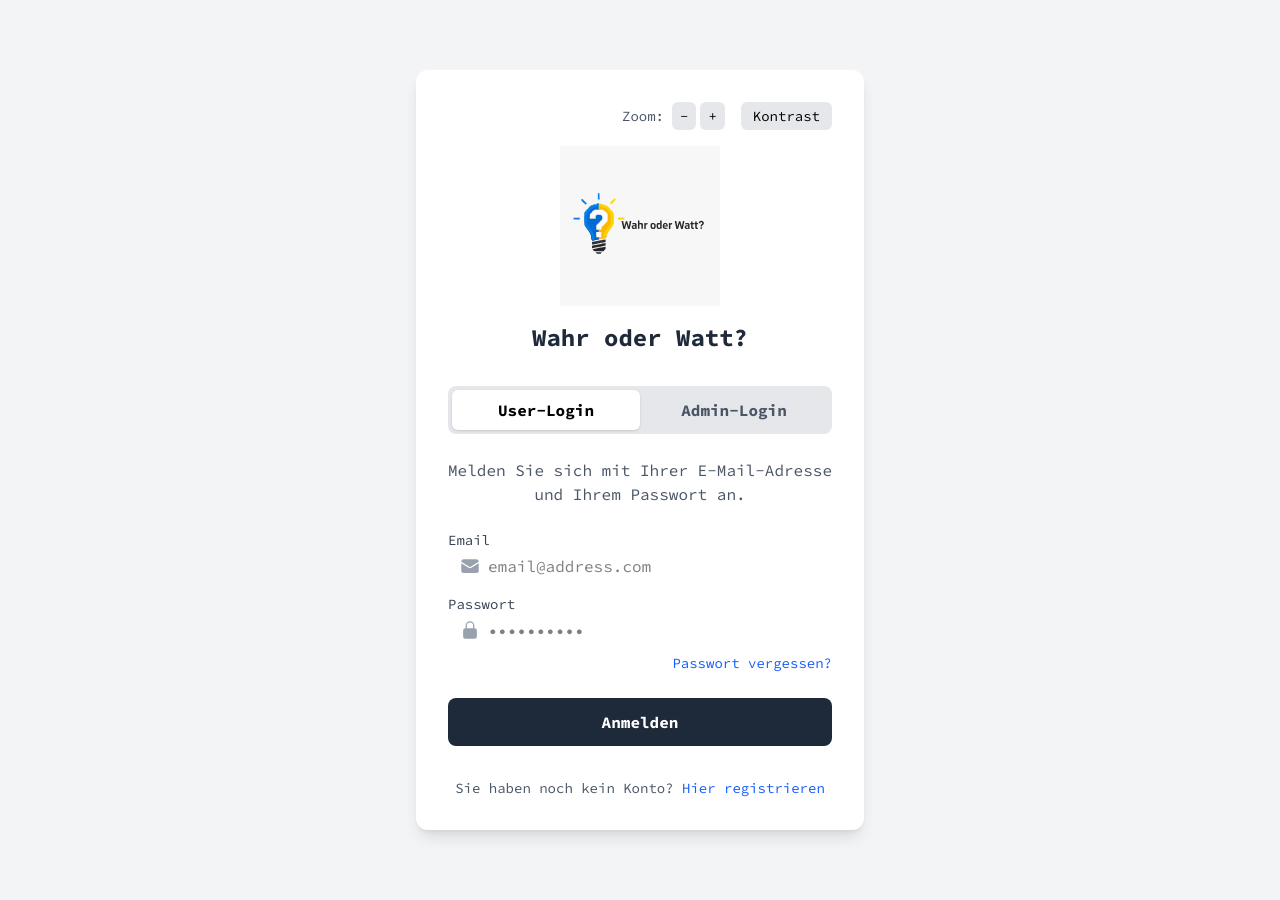
LoginView.vue › Accessibility Features › toggles high contrast mode
The width and height of the screenshot is (1280, 900).
Findet und klickt den Kontrast-Button.
What coordinates should you click on to do the following:
click the button "Kontrast"
I would click on:
 (786, 116)
Its box is [741, 102, 832, 130].
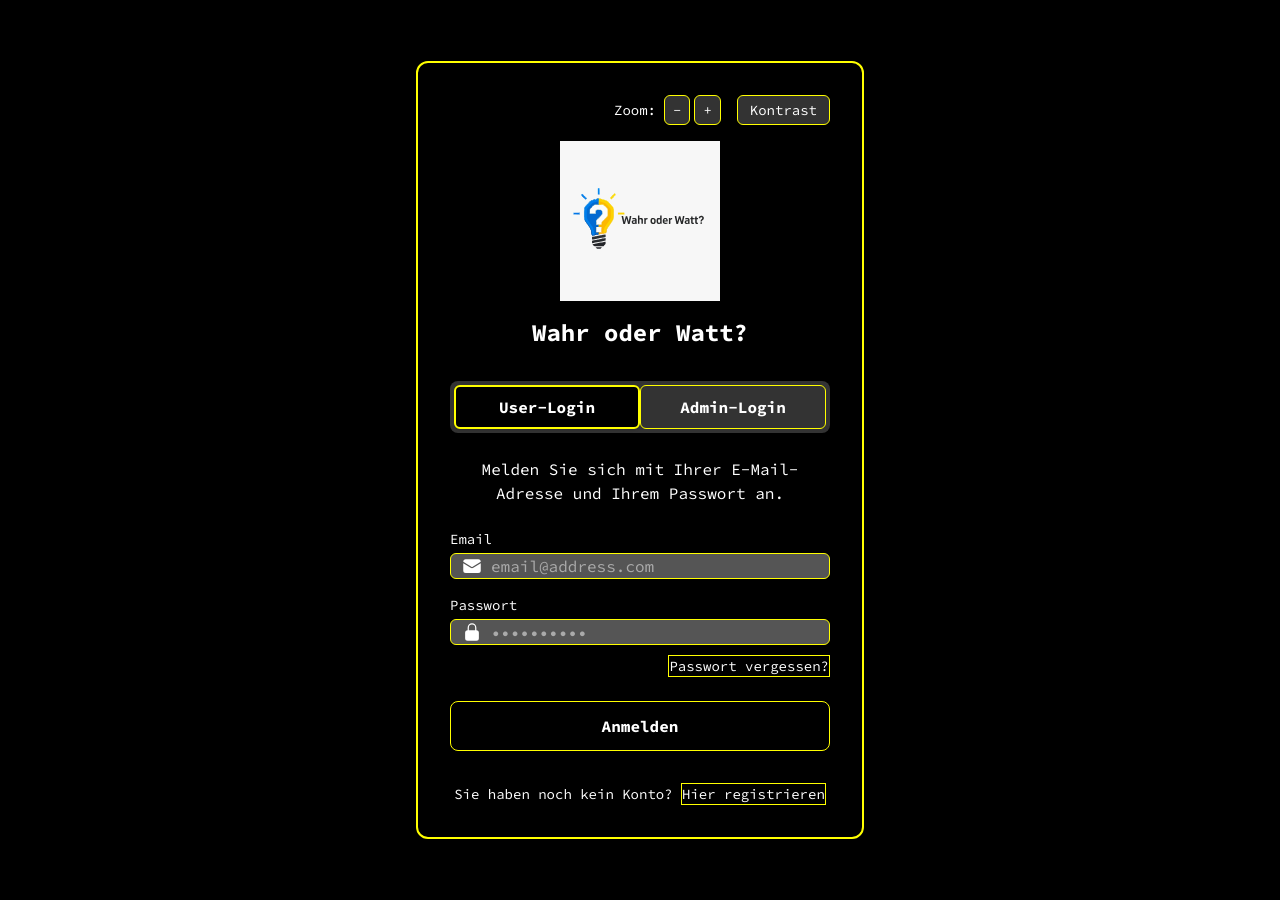
Check: the element with class "high-contrast" is shown
